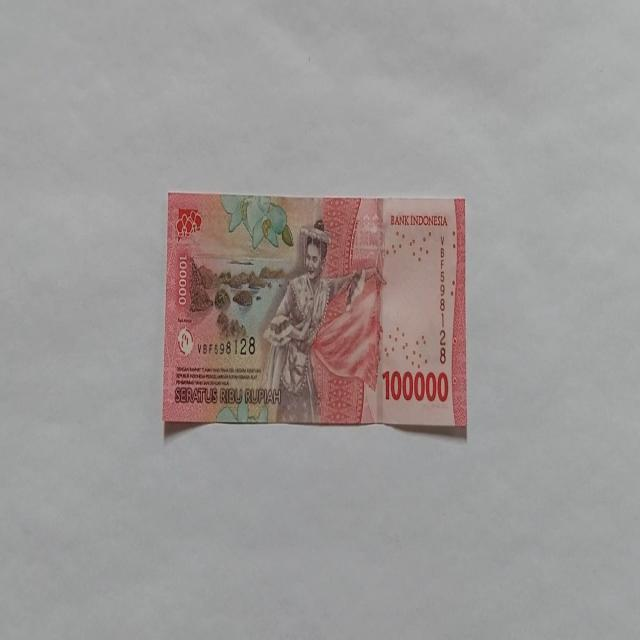seratus ribu rupiah: (162, 192, 468, 430), (259, 218, 383, 424)
